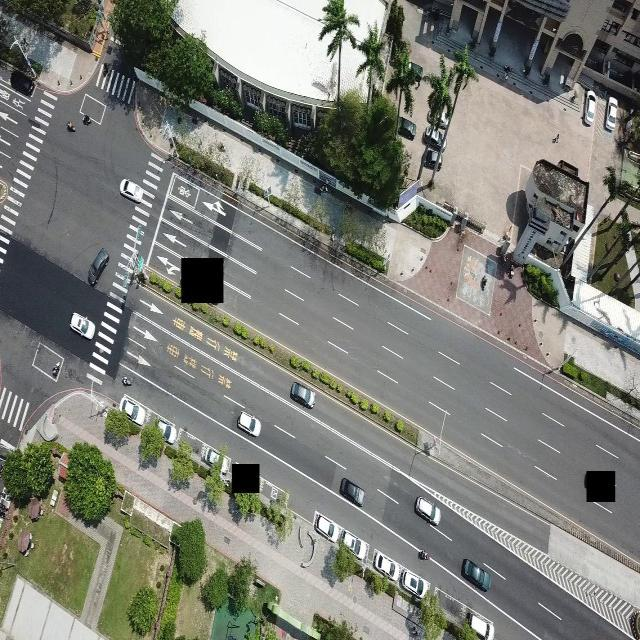bike: (81, 111, 94, 128), (64, 122, 78, 134), (122, 374, 131, 385), (418, 549, 426, 561)
car: (372, 543, 400, 583), (461, 557, 490, 593), (9, 66, 39, 100), (465, 609, 495, 640), (399, 568, 425, 601), (415, 495, 441, 527), (120, 393, 141, 432), (339, 475, 364, 507), (341, 528, 366, 560), (88, 247, 108, 285), (290, 380, 316, 409), (69, 310, 94, 339), (313, 511, 335, 541), (236, 410, 260, 437), (119, 178, 142, 203), (581, 89, 595, 128), (202, 445, 220, 475), (604, 97, 618, 133), (398, 116, 416, 139)
